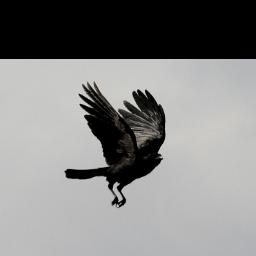Crow: (64, 81, 168, 211)
